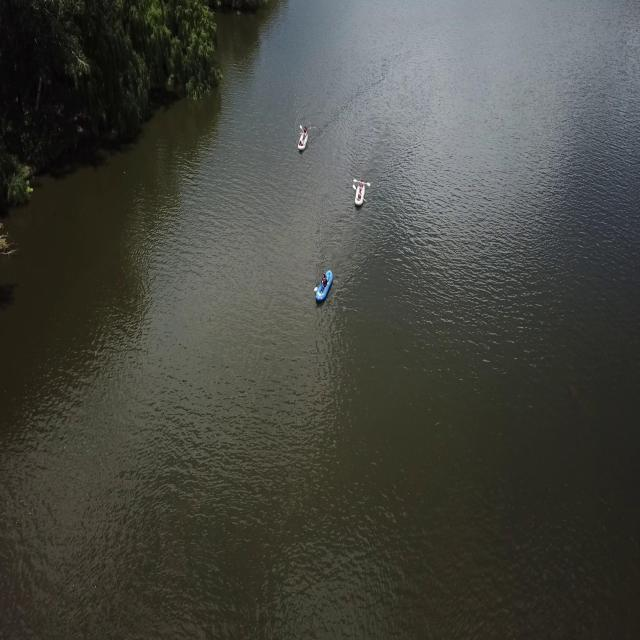kayak: (313, 268, 336, 306), (351, 173, 369, 216), (296, 124, 311, 156)
